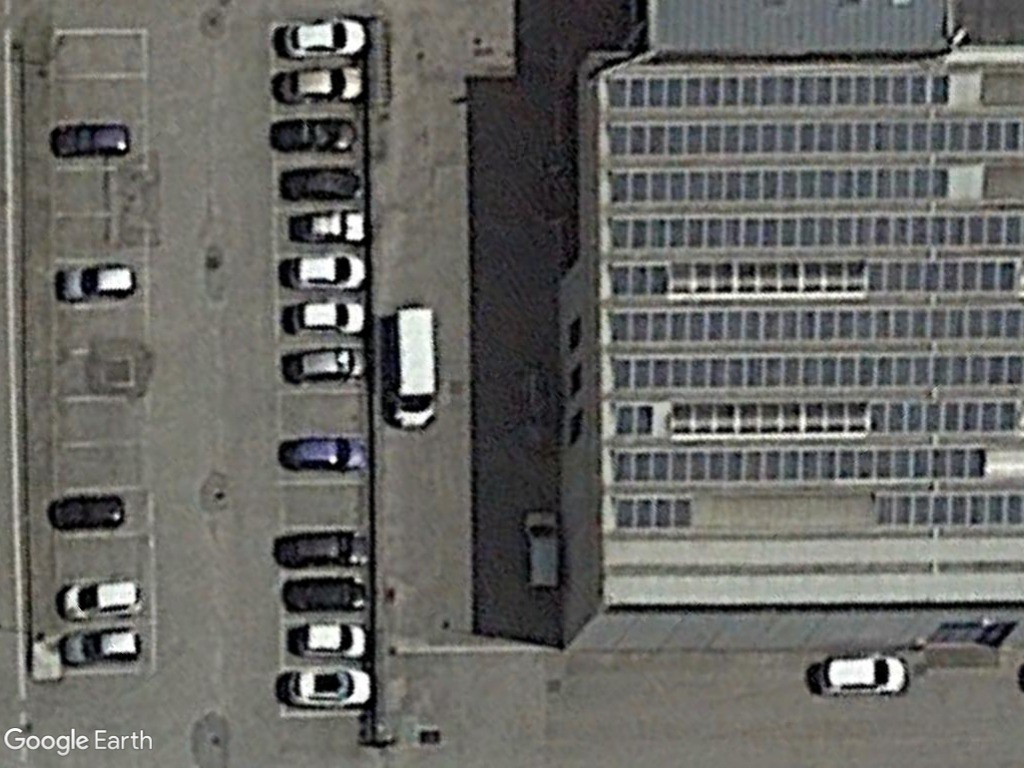car: (811, 649, 913, 700), (273, 525, 373, 572), (281, 663, 374, 711), (278, 15, 369, 61), (274, 64, 369, 107), (56, 258, 142, 305), (59, 578, 146, 624), (281, 344, 374, 387), (276, 574, 372, 615), (59, 626, 146, 669), (267, 117, 362, 155), (286, 298, 369, 339), (51, 121, 135, 161), (287, 250, 370, 290), (291, 618, 373, 658), (48, 493, 127, 534), (284, 436, 372, 472)
other: (280, 164, 365, 203), (286, 207, 368, 245)
van: (384, 301, 443, 435), (515, 504, 566, 597)
